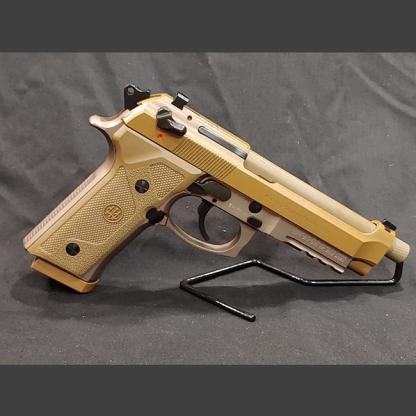Pistol: (22, 81, 412, 294)
